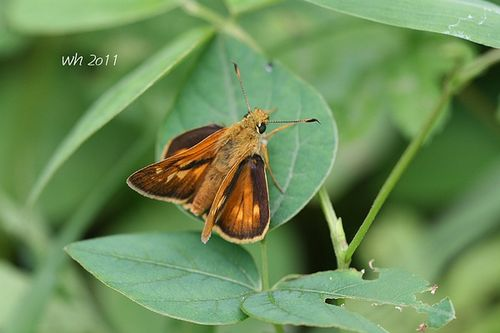Hesperiidae: (123, 61, 323, 237)
